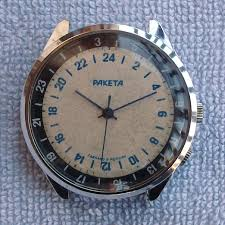alarm_clock: (21, 24, 202, 201)
